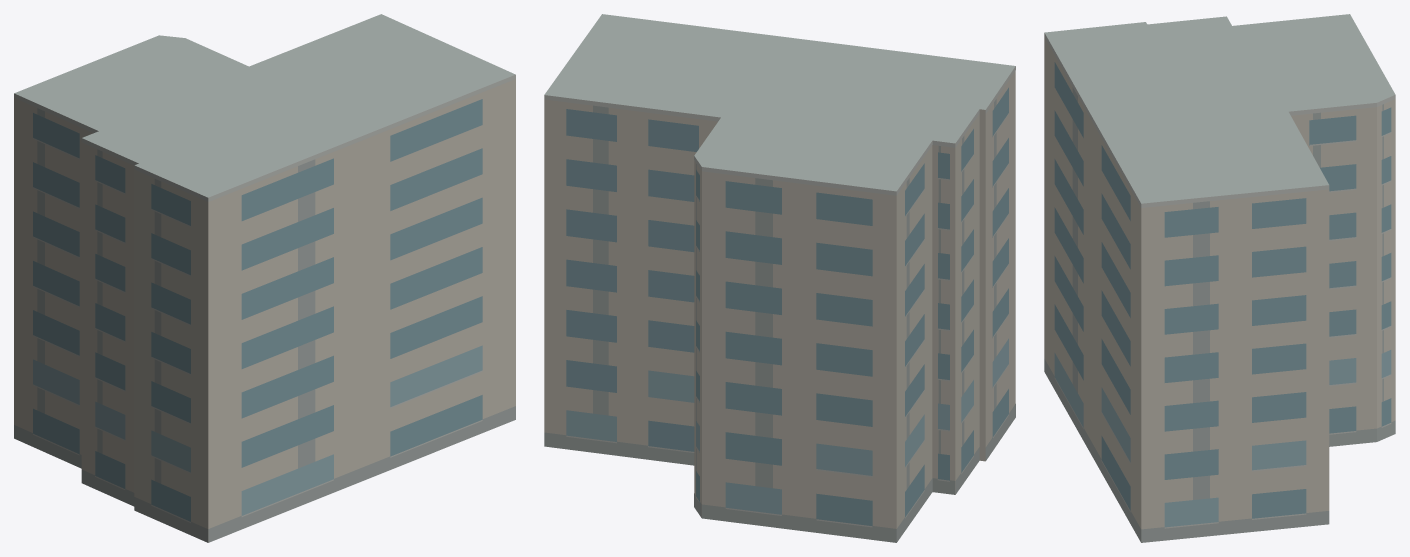
Rendered from survey-upis-32498303.glb.
The picture shows the model from 3 angles, left to right: view 1: azimuth 30°, elevation 25°; view 2: azimuth 150°, elevation 25°; view 3: azimuth 270°, elevation 25°; orthographic projection. The views are drawn at different scales.
Visible parts, largest first — view 1: survey-upis-32498303.tmp; view 2: survey-upis-32498303.tmp; view 3: survey-upis-32498303.tmp.
Part boxes in pixels (box(x1,y1,x2,y2)): survey-upis-32498303.tmp: box(14, 14, 515, 542); survey-upis-32498303.tmp: box(544, 14, 1015, 542); survey-upis-32498303.tmp: box(1044, 14, 1395, 542).
Size of the model in its own units: 23.27 by 19.4 by 18.21.
